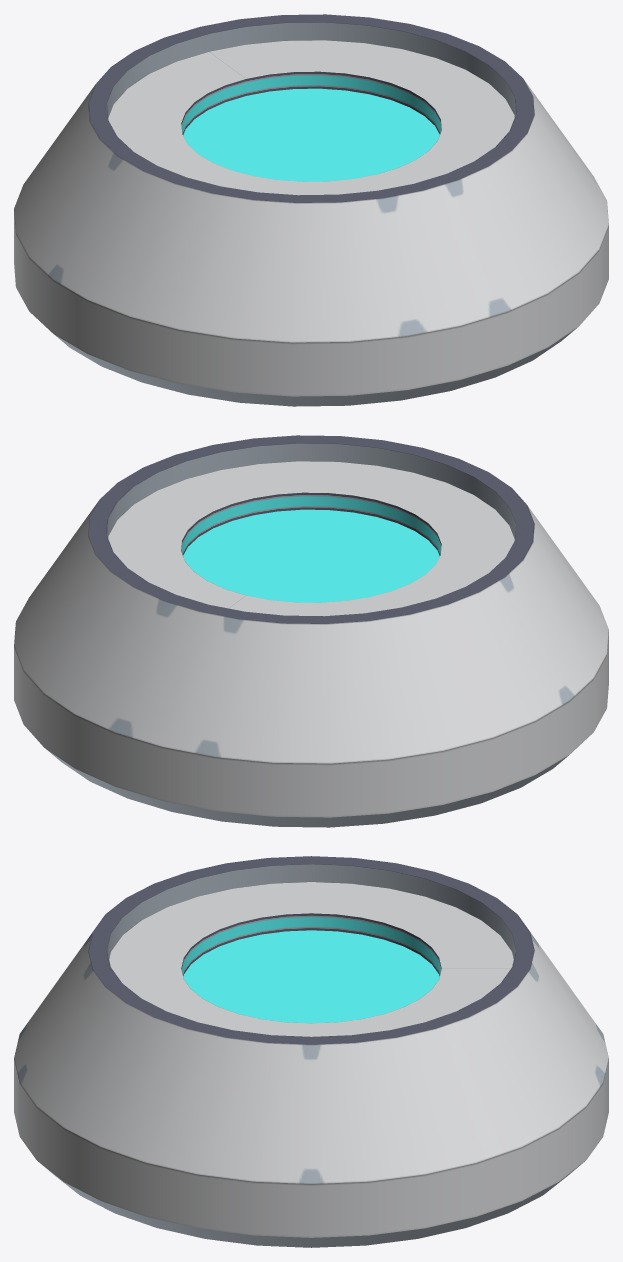
The picture shows the model from 3 angles, top to bottom: view 1: azimuth 30°, elevation 25°; view 2: azimuth 150°, elevation 25°; view 3: azimuth 270°, elevation 25°; orthographic projection.
Parts seen in each view (by area): view 1: Tube_Base_03; view 2: Tube_Base_03; view 3: Tube_Base_03.
Part boxes in pixels (x1,y1,x2,y2): Tube_Base_03: [14, 14, 608, 406]; Tube_Base_03: [14, 435, 608, 827]; Tube_Base_03: [14, 856, 608, 1247].
Size of the model in its own units: 1.5 by 0.5 by 1.5.
